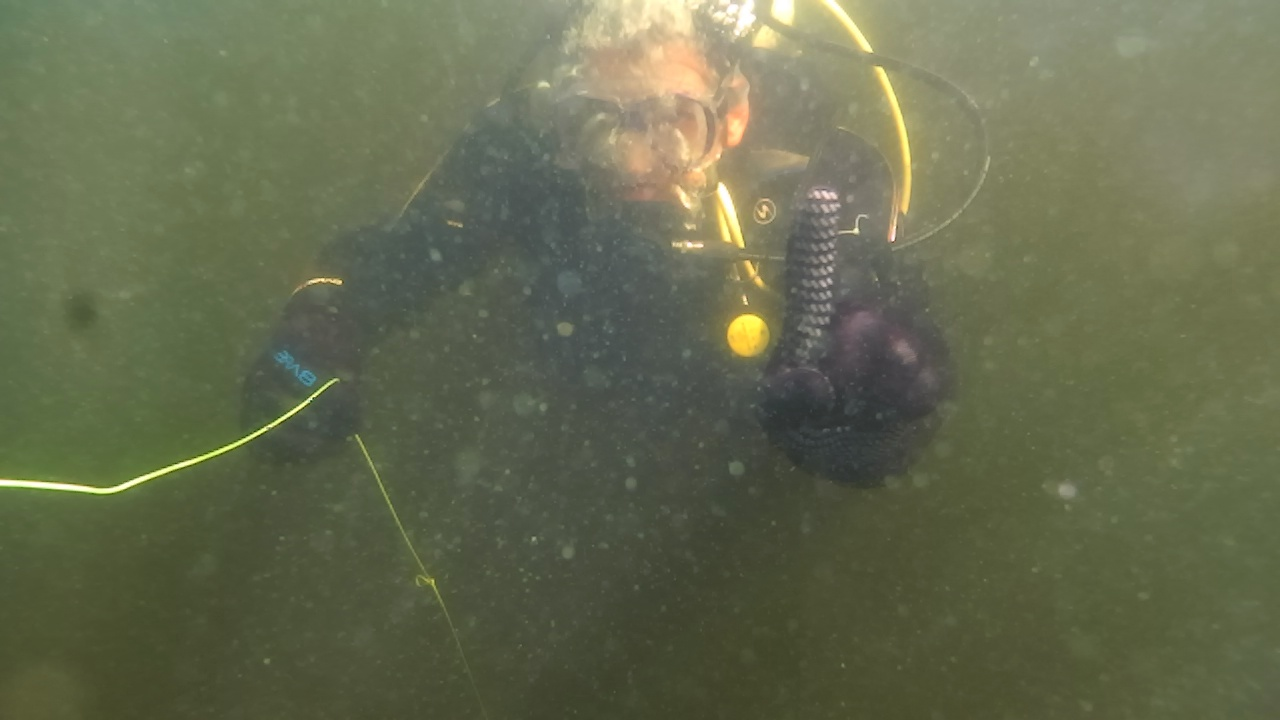Diver: (228, 4, 990, 520)
Hand: (756, 170, 952, 484), (230, 330, 372, 482)
Head: (512, 4, 756, 284)
